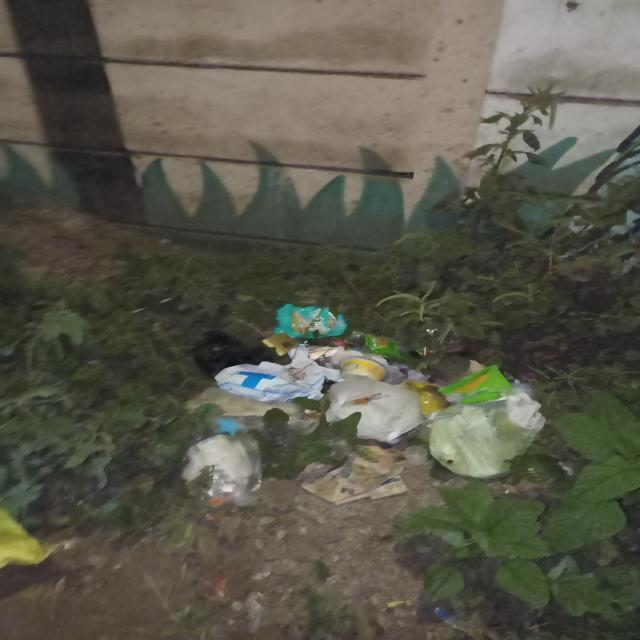garbage: (188, 274, 559, 520)
